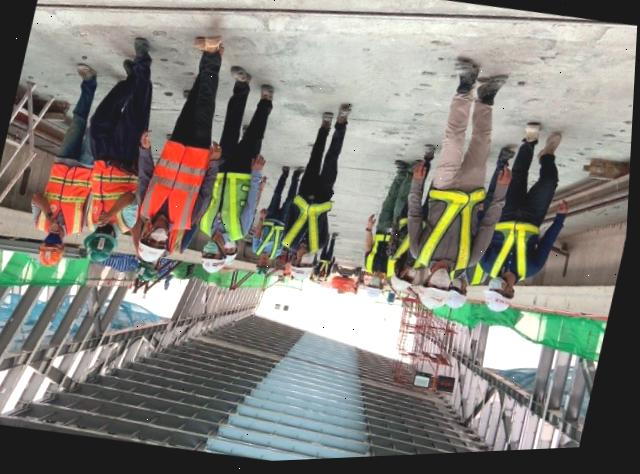helmet: (83, 231, 122, 263), (418, 285, 456, 315), (134, 238, 169, 265), (484, 291, 517, 319), (135, 260, 165, 284), (289, 263, 320, 284), (446, 289, 472, 313), (37, 245, 65, 266), (202, 255, 229, 276), (392, 278, 416, 298), (368, 285, 387, 302), (254, 261, 277, 275), (222, 248, 238, 266)
vest: (417, 188, 486, 275), (146, 139, 208, 233), (85, 160, 144, 234), (483, 222, 546, 291), (200, 170, 257, 243), (38, 161, 94, 235), (282, 197, 335, 254), (367, 233, 406, 281), (393, 217, 421, 263), (257, 216, 284, 259), (448, 265, 483, 287), (317, 255, 338, 273)
